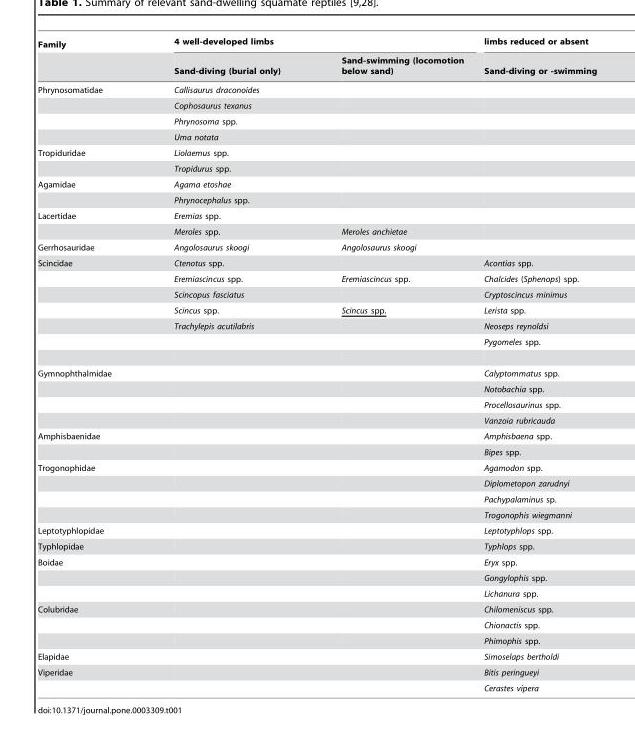table: (37, 36, 596, 692)
table column: (142, 36, 310, 692), (310, 36, 473, 692), (473, 36, 596, 692), (37, 36, 142, 692)
table column header: (37, 36, 596, 80)
table row: (37, 52, 596, 80), (37, 333, 596, 357), (37, 357, 596, 381), (37, 80, 596, 97), (37, 36, 596, 52), (37, 97, 596, 113), (37, 113, 596, 129), (37, 144, 596, 160), (37, 160, 596, 176), (37, 176, 596, 192), (37, 207, 596, 223), (37, 223, 596, 239), (37, 239, 596, 255), (37, 270, 596, 286), (37, 286, 596, 302), (37, 302, 596, 318), (37, 396, 596, 412), (37, 412, 596, 428), (37, 428, 596, 444), (37, 459, 596, 475), (37, 475, 596, 491), (37, 491, 596, 507), (37, 522, 596, 538), (37, 538, 596, 554), (37, 569, 596, 585), (37, 585, 596, 601), (37, 601, 596, 617), (37, 632, 596, 648), (37, 648, 596, 664), (37, 664, 596, 680), (37, 129, 596, 144), (37, 192, 596, 207), (37, 255, 596, 270), (37, 318, 596, 333), (37, 381, 596, 396), (37, 444, 596, 459), (37, 507, 596, 522), (37, 554, 596, 569), (37, 617, 596, 632), (37, 680, 596, 692)
table spanning cell: (37, 255, 142, 357), (37, 357, 142, 428), (37, 80, 142, 144), (37, 459, 142, 522), (473, 36, 596, 80), (142, 36, 473, 52), (37, 554, 142, 601), (37, 601, 142, 648), (37, 36, 142, 80), (37, 144, 142, 176), (37, 207, 142, 239), (37, 176, 142, 207), (37, 428, 142, 459), (37, 664, 142, 692)
